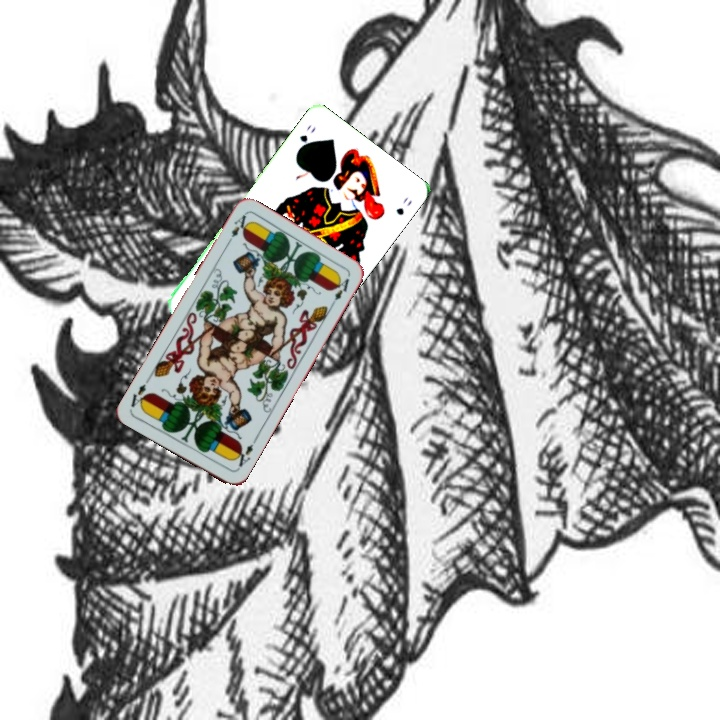EA: (230, 435, 259, 472), (223, 210, 251, 248)
GO: (293, 121, 318, 155)
